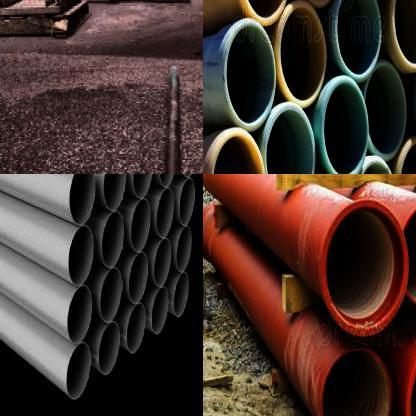pipe: (320, 200, 409, 336), (226, 23, 275, 125), (321, 348, 392, 416), (279, 5, 326, 104), (323, 80, 367, 174), (365, 64, 406, 156), (336, 0, 380, 76), (265, 107, 314, 174), (211, 131, 266, 174), (68, 226, 94, 286), (393, 0, 416, 64), (66, 342, 91, 400), (68, 285, 92, 344), (403, 201, 416, 309), (69, 174, 95, 226), (101, 211, 124, 268), (100, 267, 122, 323), (99, 321, 121, 376), (131, 199, 151, 252), (126, 304, 146, 354), (129, 252, 148, 304), (241, 0, 290, 20), (156, 188, 174, 238), (154, 238, 172, 288), (151, 286, 169, 334), (103, 174, 126, 211), (179, 178, 195, 226), (176, 226, 192, 272), (354, 158, 398, 174), (174, 272, 190, 316), (133, 174, 153, 199), (159, 174, 177, 188)
